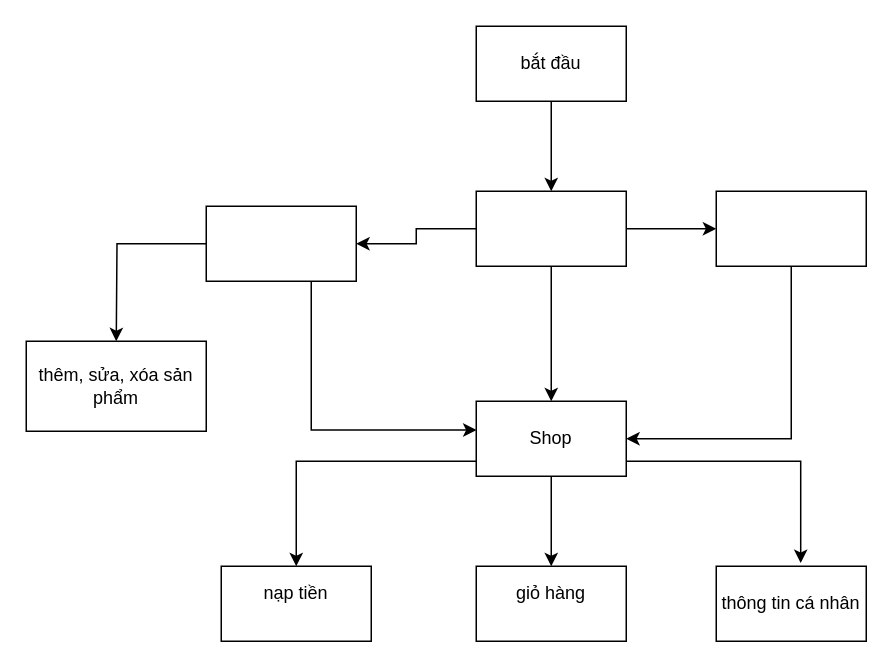
Some shapes in this 893 by 668 pixel diagram are drawn without their labels. Each missing label, with the centre of its shape:
"Admin" belongs at point 280,243.
"đăng ký" belongs at point 790,228.
"đăng nhập" belongs at point 550,228.
